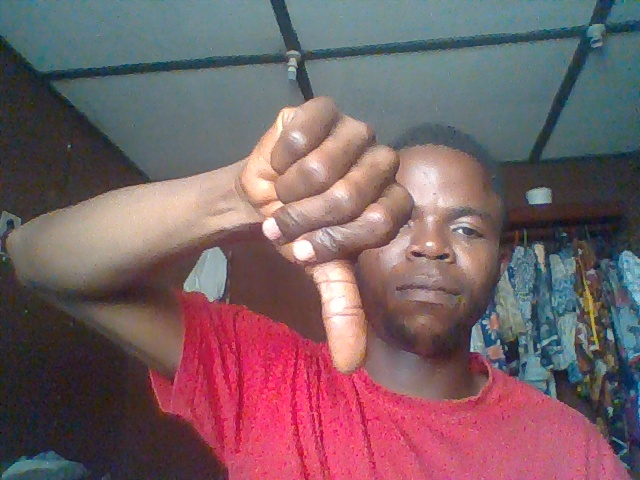Thumbdown: (236, 91, 431, 383)
